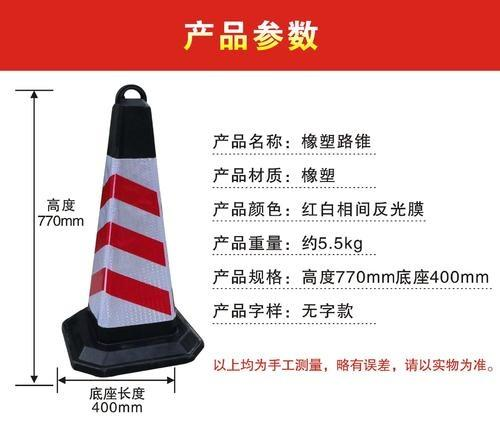cone_barrel: (59, 85, 206, 373)
